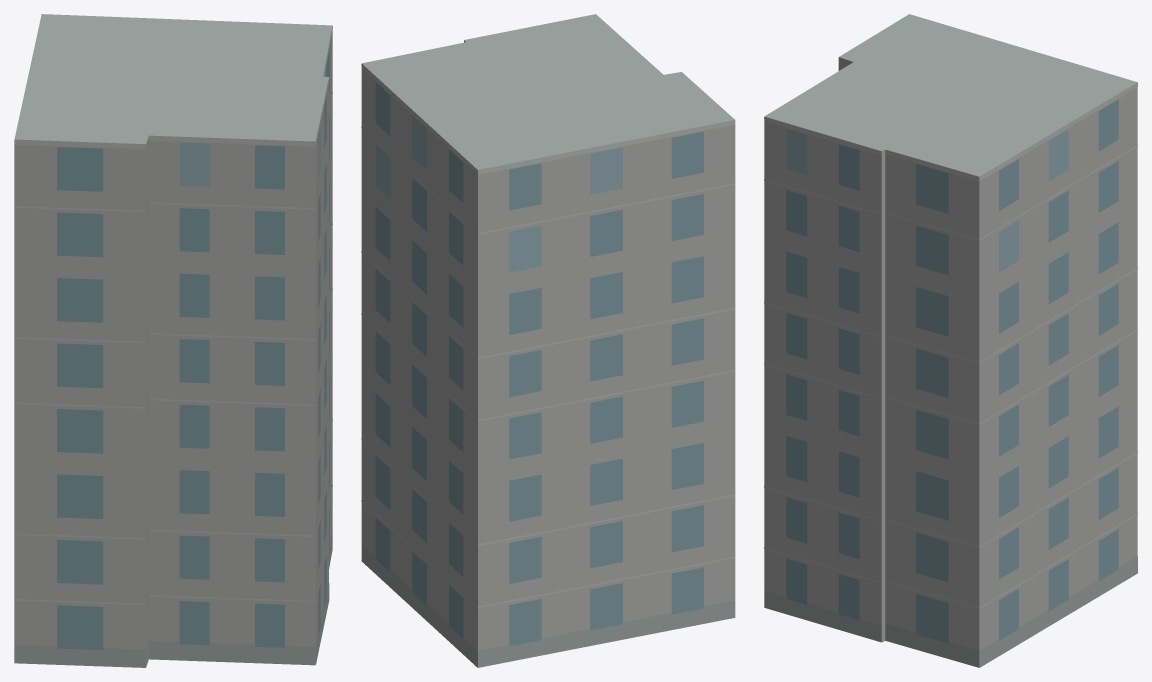
File: survey-upis-32976822.glb
3 views of the same model, side by side, from view 1: azimuth 30°, elevation 25°; view 2: azimuth 150°, elevation 25°; view 3: azimuth 270°, elevation 25° (orthographic). The views are drawn at different scales.
Parts seen in each view (by area): view 1: survey-upis-32976822.tmp; view 2: survey-upis-32976822.tmp; view 3: survey-upis-32976822.tmp.
Part boxes in pixels (x1,y1,x2,y2): survey-upis-32976822.tmp: (14, 14, 332, 667); survey-upis-32976822.tmp: (361, 14, 735, 667); survey-upis-32976822.tmp: (764, 14, 1137, 667).
Bounding box in the file's own units: 17.64 × 24.8 × 17.11.
